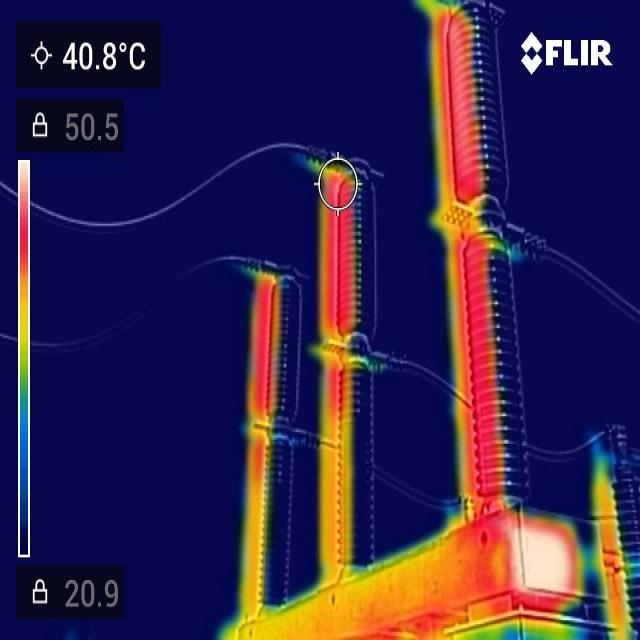Zona_Atenco: (328, 422, 465, 634), (329, 177, 354, 326)
Zona_Critica: (457, 236, 499, 502), (438, 21, 488, 202), (256, 282, 268, 408)
Zona_Extrema: (513, 526, 567, 593)
